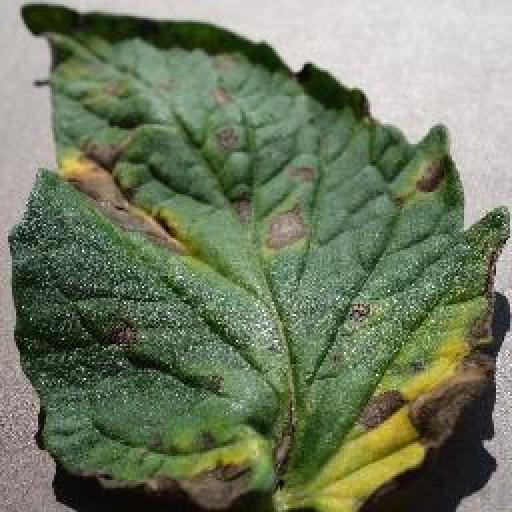disease_tomato: (14, 5, 512, 512)
